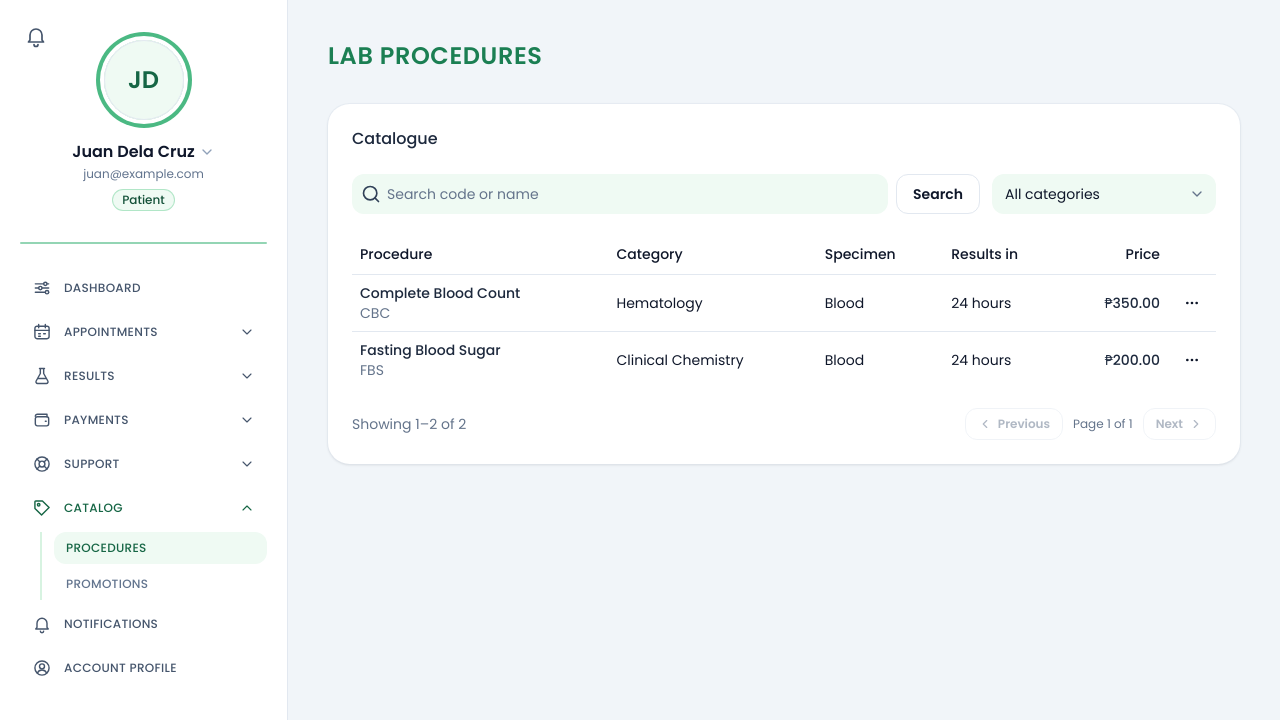
ProceduresPage › shows patients a read-only catalogue with prices and preparation details
Click the button named "Actions for Fasting Blood Sugar" at (1192, 360), box [1176, 344, 1208, 376]
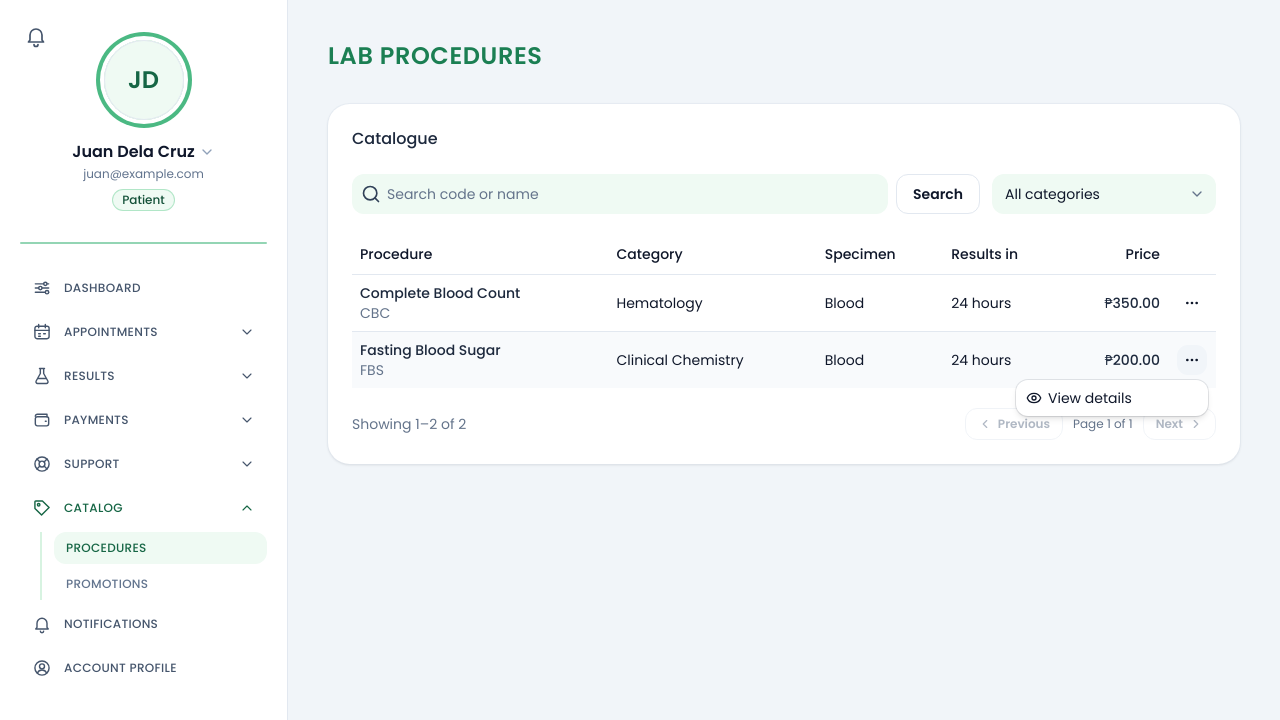
Click the menu item "View details" at (1079, 398), box [1026, 388, 1132, 408]
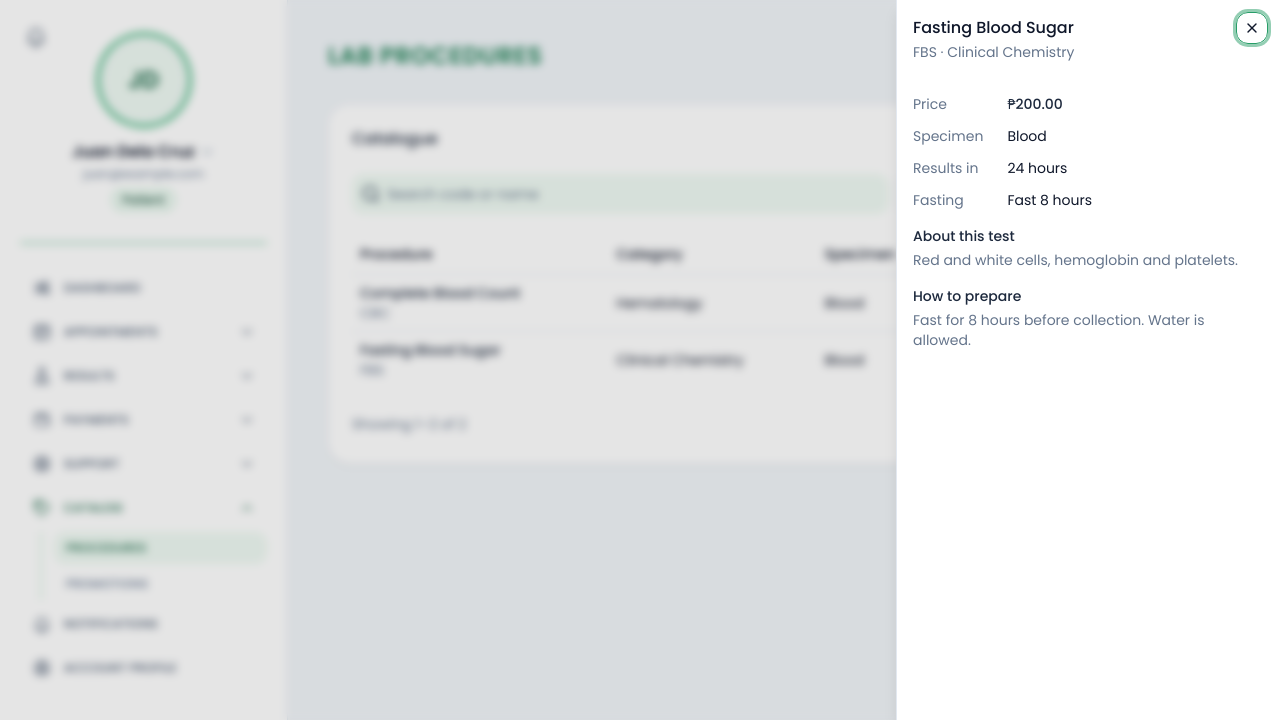
Expected: the text "Fast 8 hours" is shown, [1007, 190, 1092, 210]
Expected: the text "Fast for 8 hours before collection. Water is allowed." is shown, [913, 310, 1204, 350]
